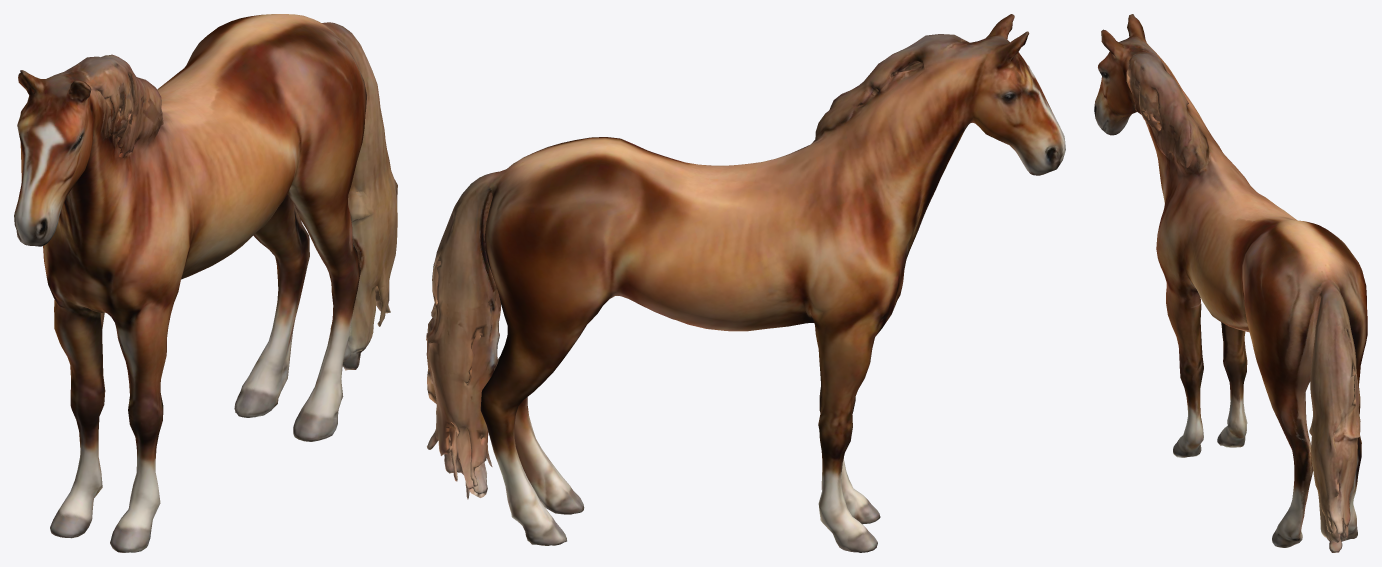
File: horse.glb
The picture shows the model from 3 angles, left to right: view 1: azimuth 30°, elevation 25°; view 2: azimuth 150°, elevation 25°; view 3: azimuth 270°, elevation 25°; orthographic projection. The views are drawn at different scales.
Visible parts, largest first — view 1: Horse; view 2: Horse; view 3: Horse.
Boxes of the visible parts, left/top/right/bottom form: Horse: left=14, top=14, right=397, bottom=552; Horse: left=426, top=14, right=1065, bottom=552; Horse: left=1094, top=14, right=1367, bottom=552.
Bounding box in the file's own units: 1.93 × 1.85 × 1.18.
Materials: 1 (1 with a texture image).
